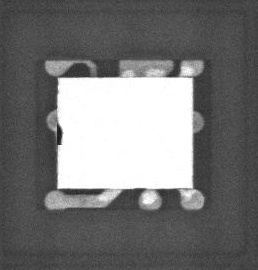DIE_BROKEN: (55, 121, 66, 147)
